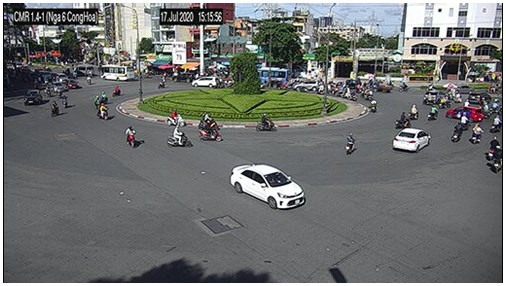xe_buyt: (100, 64, 134, 82), (255, 67, 289, 84)
xe_hoi: (229, 161, 305, 210), (392, 128, 430, 155), (445, 103, 483, 121), (293, 79, 322, 91), (22, 88, 42, 105), (423, 88, 445, 103), (466, 91, 490, 104), (191, 77, 219, 87), (51, 82, 69, 93), (63, 78, 78, 88)
xe_may: (165, 125, 192, 150), (199, 121, 223, 143), (197, 111, 219, 131), (166, 108, 185, 127), (256, 113, 276, 131), (125, 125, 138, 148), (471, 122, 483, 145), (395, 111, 411, 128), (492, 144, 501, 174), (345, 132, 355, 156), (96, 103, 109, 121), (452, 121, 462, 144), (93, 91, 107, 106), (488, 136, 497, 158), (459, 111, 469, 130), (490, 115, 499, 134), (427, 104, 437, 120), (410, 103, 419, 120), (370, 97, 379, 113), (398, 82, 411, 93), (50, 101, 58, 118), (112, 84, 121, 97), (451, 90, 460, 103), (62, 96, 70, 110), (86, 75, 92, 86)
